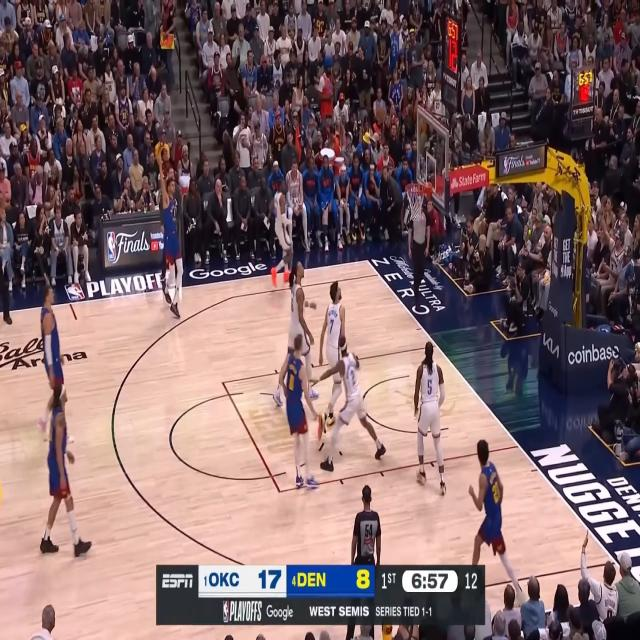ball: (376, 105, 386, 124)
number: (426, 376, 433, 396), (328, 318, 335, 334)
player: (309, 332, 387, 474), (469, 438, 527, 608), (39, 380, 93, 558), (272, 259, 320, 405), (36, 284, 74, 447), (281, 333, 319, 492), (413, 339, 448, 498), (156, 150, 183, 318), (320, 283, 347, 432), (271, 178, 295, 287)
referee: (346, 484, 382, 640), (405, 200, 432, 308)
rim: (405, 182, 427, 196)
